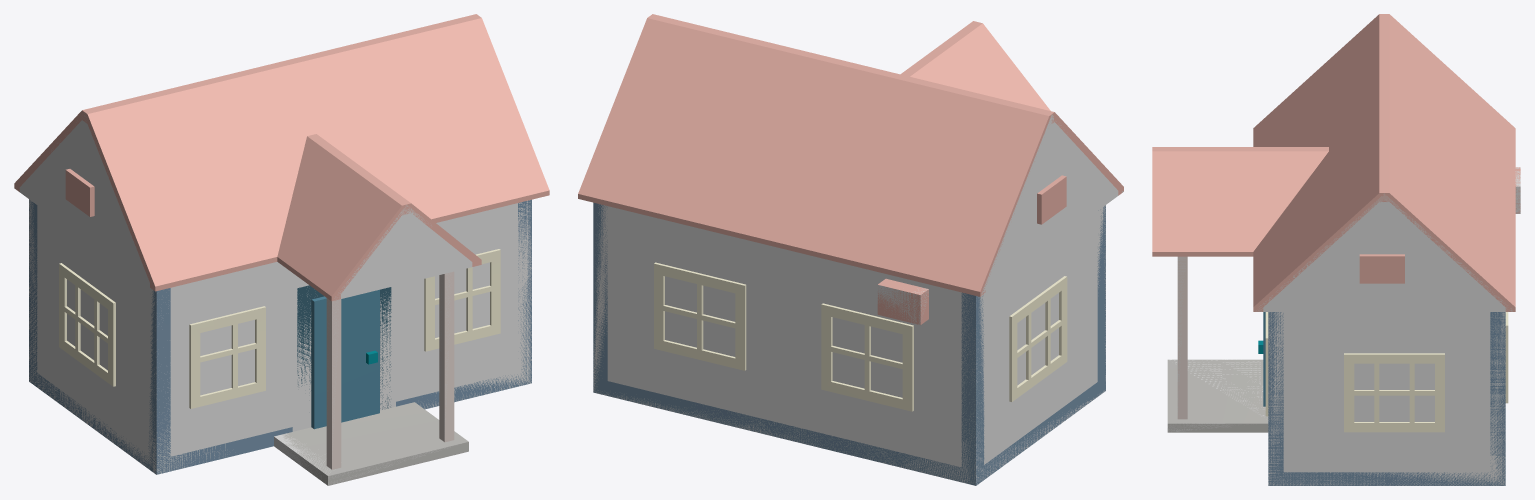
File: Home08_B1_1_01.FBX
3 renders of one model, left to right at view 1: azimuth 30°, elevation 25°; view 2: azimuth 150°, elevation 25°; view 3: azimuth 270°, elevation 25°, orthographic. The views are drawn at different scales.
Parts seen in each view (by area): view 1: Home08_B1_Live_1_01, Home08_B1_Damage_1_01; view 2: Home08_B1_Live_1_01, Home08_B1_Damage_1_01; view 3: Home08_B1_Live_1_01, Home08_B1_Damage_1_01.
Part boxes in pixels (x1,y1,x2,y2): Home08_B1_Live_1_01: (14, 14, 549, 485); Home08_B1_Damage_1_01: (16, 113, 531, 484); Home08_B1_Live_1_01: (578, 14, 1123, 485); Home08_B1_Damage_1_01: (593, 114, 1123, 485); Home08_B1_Live_1_01: (1152, 14, 1520, 485); Home08_B1_Damage_1_01: (1167, 167, 1520, 485).
Bounding box in the file's own units: 6.54 × 4.95 × 5.56.
